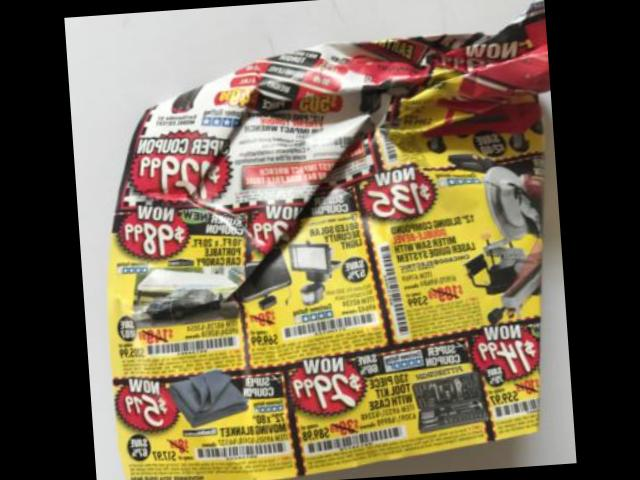cardboard paper: (106, 0, 550, 480)
